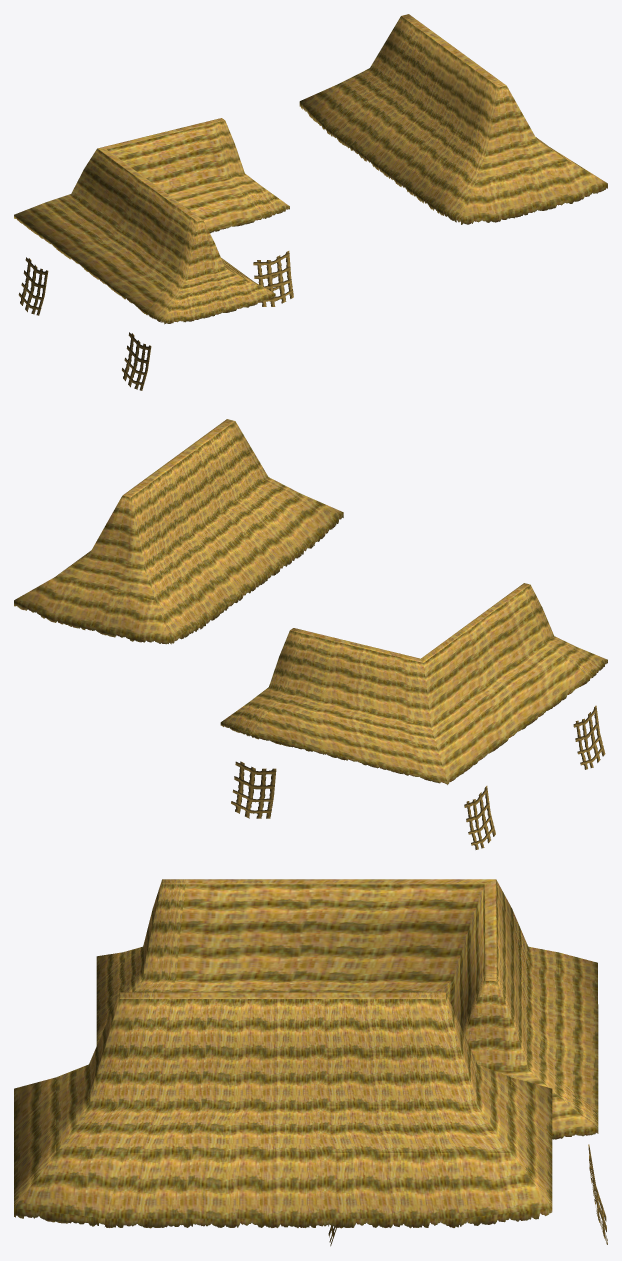
File: roof_dock.dae
3 views of the same model, one above another, from view 1: azimuth 30°, elevation 25°; view 2: azimuth 150°, elevation 25°; view 3: azimuth 270°, elevation 25° (orthographic). The views are drawn at different scales.
Parts seen in each view (by area): view 1: dock.001; view 2: dock.001; view 3: dock.001.
Part boxes in pixels (x1=…): dock.001: x1=14, y1=14, x2=607, y2=390; dock.001: x1=14, y1=419, x2=607, y2=849; dock.001: x1=14, y1=879, x2=607, y2=1246.
Size of the model in its own units: 28.81 by 20.69 by 14.5.
